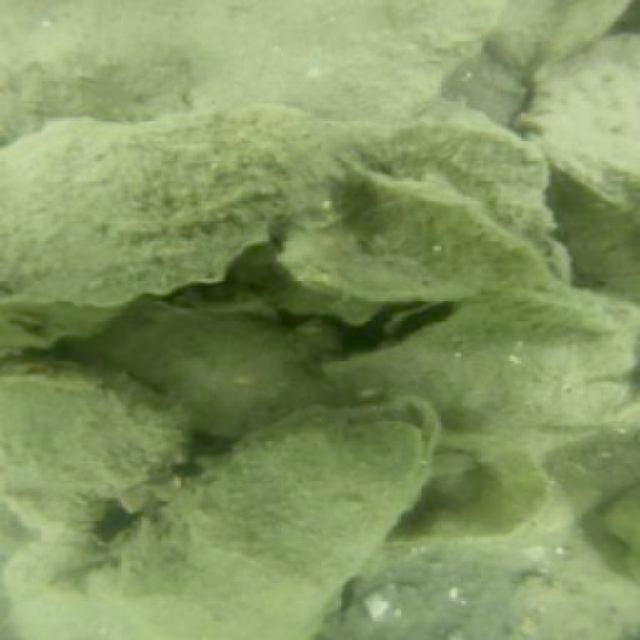Oyster-Closed: (2, 108, 352, 352), (89, 401, 440, 626), (321, 279, 639, 454), (5, 528, 320, 639), (3, 357, 188, 537), (343, 533, 628, 635), (92, 309, 312, 436), (341, 101, 556, 228), (510, 34, 639, 231), (331, 165, 554, 277), (271, 201, 485, 300), (383, 428, 558, 544), (467, 281, 616, 348)
Oyster-Open: (381, 291, 477, 355)
